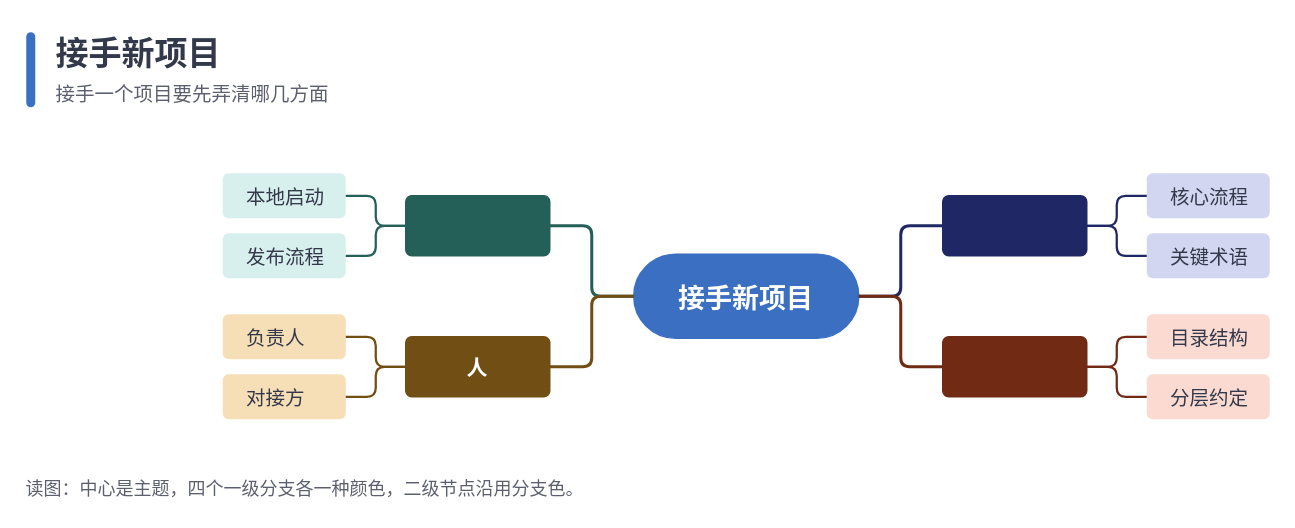
This 1295x528 diagram has some shape labels left out. Here are the shapes that lost their labels. From the top down, the centre of each, then its label:
At [477,225]: "环境".
At [1014,225]: "业务".
At [1014,366]: "代码".
